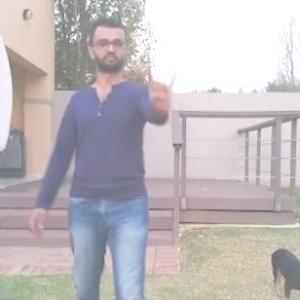takeoff-hand: (144, 54, 185, 120)
